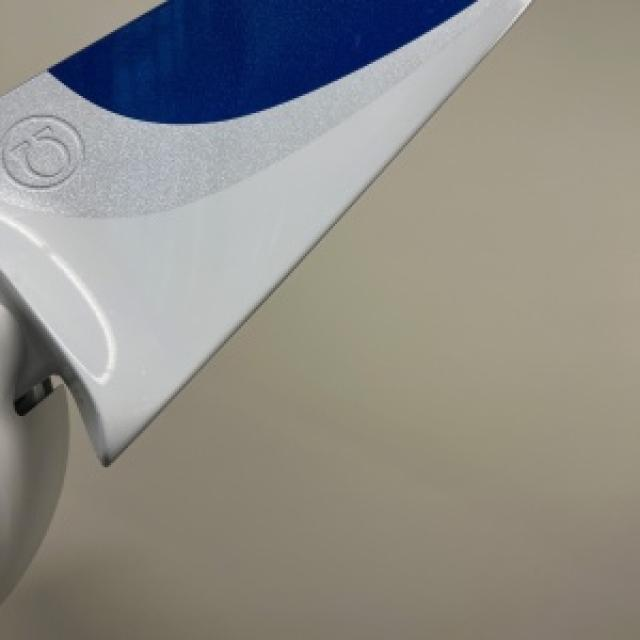healthy: (4, 100, 555, 627), (0, 0, 525, 461), (177, 346, 301, 422)
